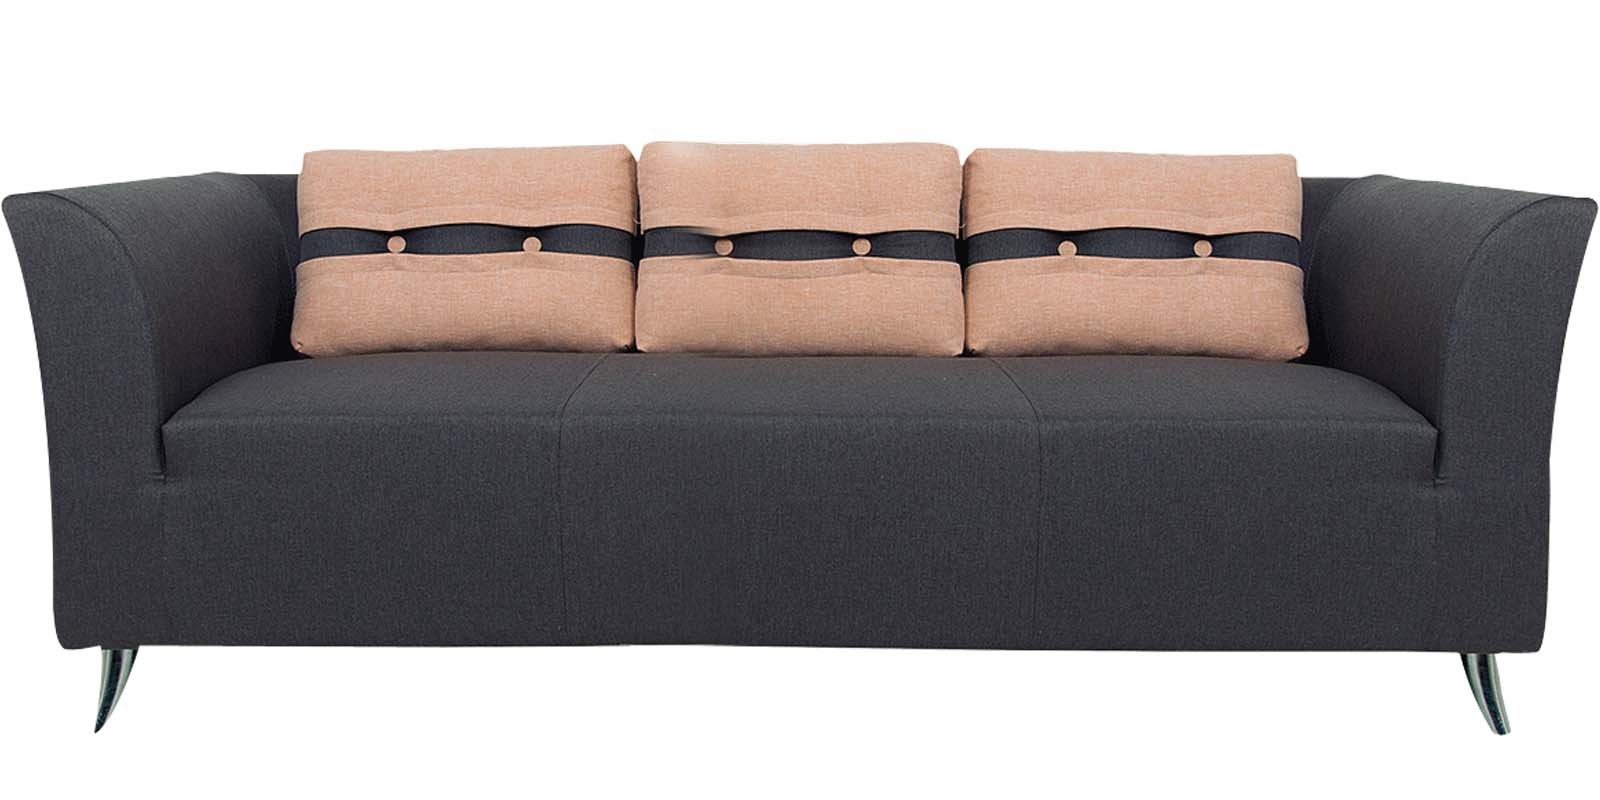Iowa Three Seater Sofa in Steel Grey Colour by Furnitech: (13, 129, 1600, 781)
